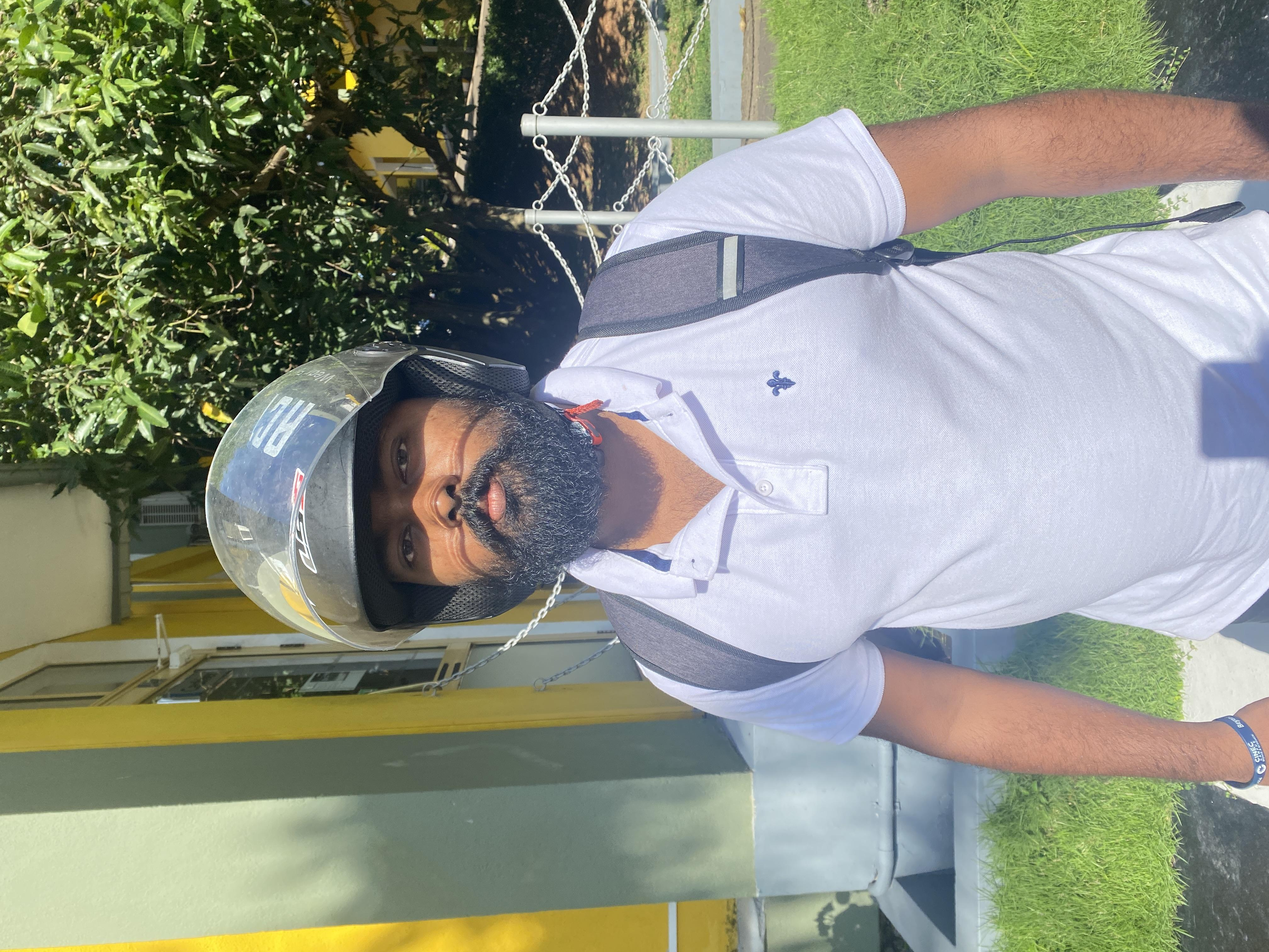helmet: (400, 149, 808, 455)
